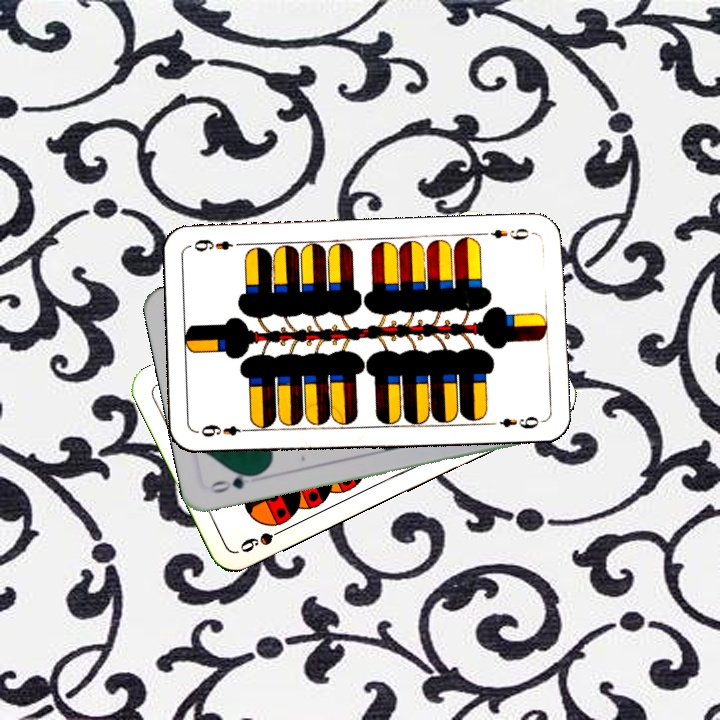E9: (478, 224, 537, 243), (197, 421, 253, 440)
GO: (206, 468, 263, 496)
S9: (235, 522, 291, 556)
